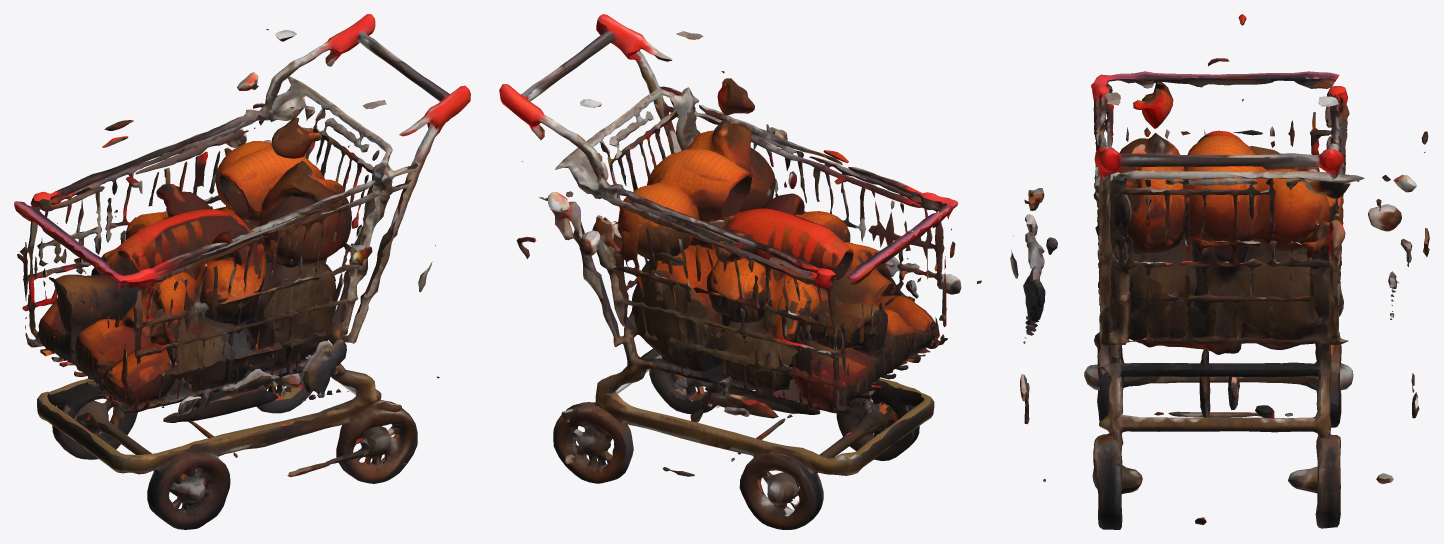
The model's file is carro_super.glb.
The picture shows the model from 3 angles, left to right: view 1: azimuth 30°, elevation 25°; view 2: azimuth 150°, elevation 25°; view 3: azimuth 270°, elevation 25°; orthographic projection. The views are drawn at different scales.
Visible parts, largest first — view 1: tmp0etl7hgf.ply; view 2: tmp0etl7hgf.ply; view 3: tmp0etl7hgf.ply.
Part boxes in pixels (x1,y1,x2,y2): tmp0etl7hgf.ply: (14,14,470,529); tmp0etl7hgf.ply: (499,14,981,529); tmp0etl7hgf.ply: (1010,14,1429,529).
Size of the model in its own units: 0.9957 by 0.9991 by 0.8895.
Materials: 1 (1 with a texture image).
